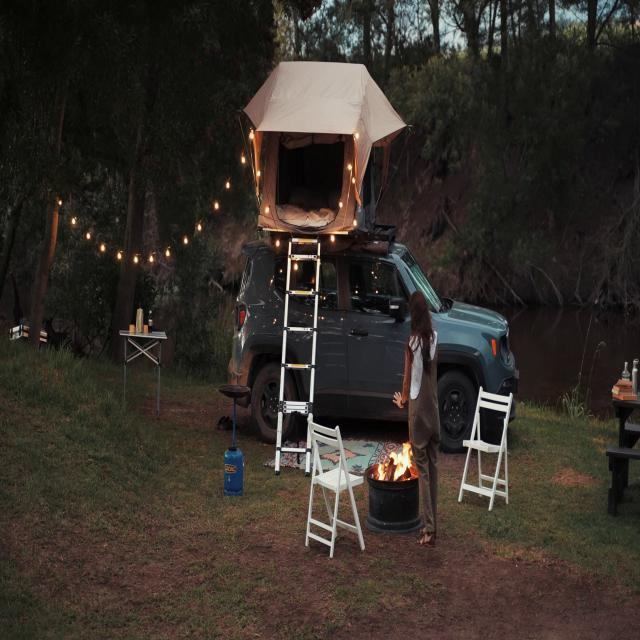Fire: (384, 434, 416, 486)
